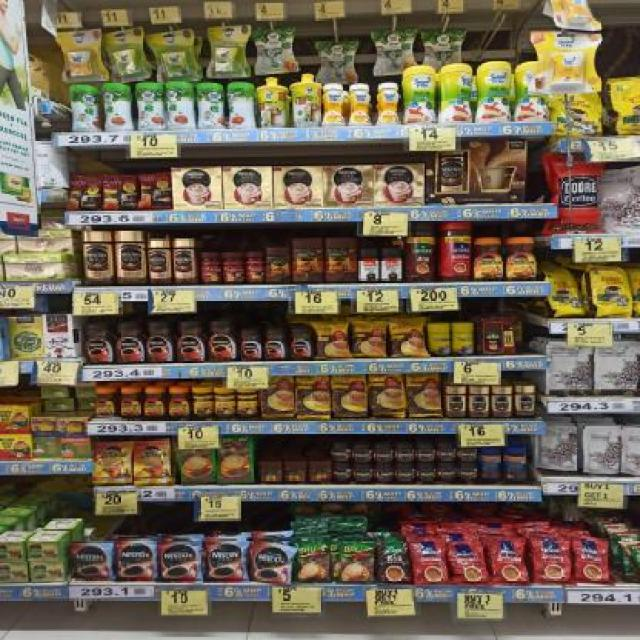Coffee: (205, 540, 247, 583), (159, 542, 203, 583), (133, 440, 170, 486), (93, 443, 132, 485), (251, 545, 292, 584), (116, 542, 156, 580), (73, 542, 113, 580), (117, 230, 145, 284), (84, 231, 111, 284), (506, 238, 537, 280), (474, 238, 503, 280), (206, 324, 237, 361), (116, 323, 144, 362), (146, 323, 174, 362), (85, 323, 112, 362), (176, 324, 204, 361), (172, 239, 194, 284), (148, 240, 170, 284), (263, 329, 286, 360), (290, 329, 312, 358), (238, 331, 260, 360), (491, 386, 512, 416), (167, 389, 190, 416), (516, 386, 536, 416), (469, 386, 489, 416), (446, 386, 466, 416), (94, 389, 115, 416), (144, 389, 164, 416), (119, 389, 139, 416), (354, 444, 374, 462), (332, 444, 352, 461), (458, 463, 479, 479), (372, 465, 394, 480), (373, 445, 393, 461), (416, 445, 435, 461), (394, 445, 414, 460), (437, 464, 457, 479), (416, 464, 436, 479), (332, 466, 353, 480), (354, 464, 372, 480), (396, 465, 415, 480), (437, 444, 455, 459), (458, 449, 476, 459)
